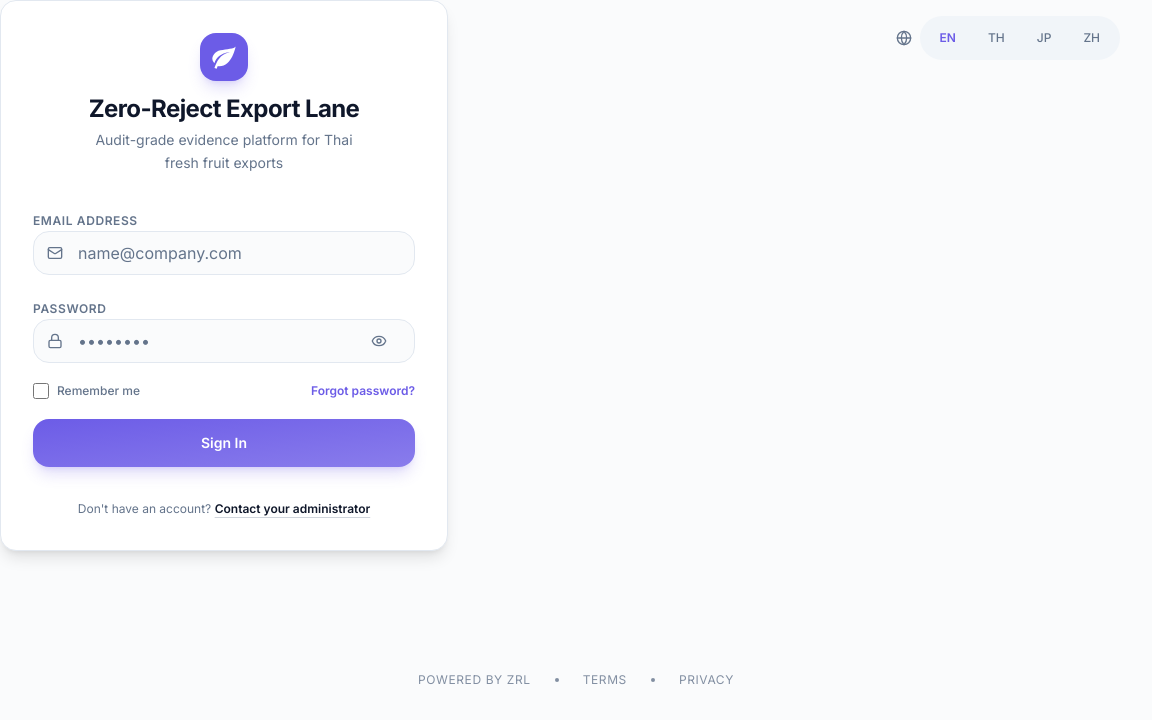
it: LoginPage › shows validation error for invalid email format
Type "notanemail" into the field labelled "Email Address" at (224, 252), box [33,230,415,274]
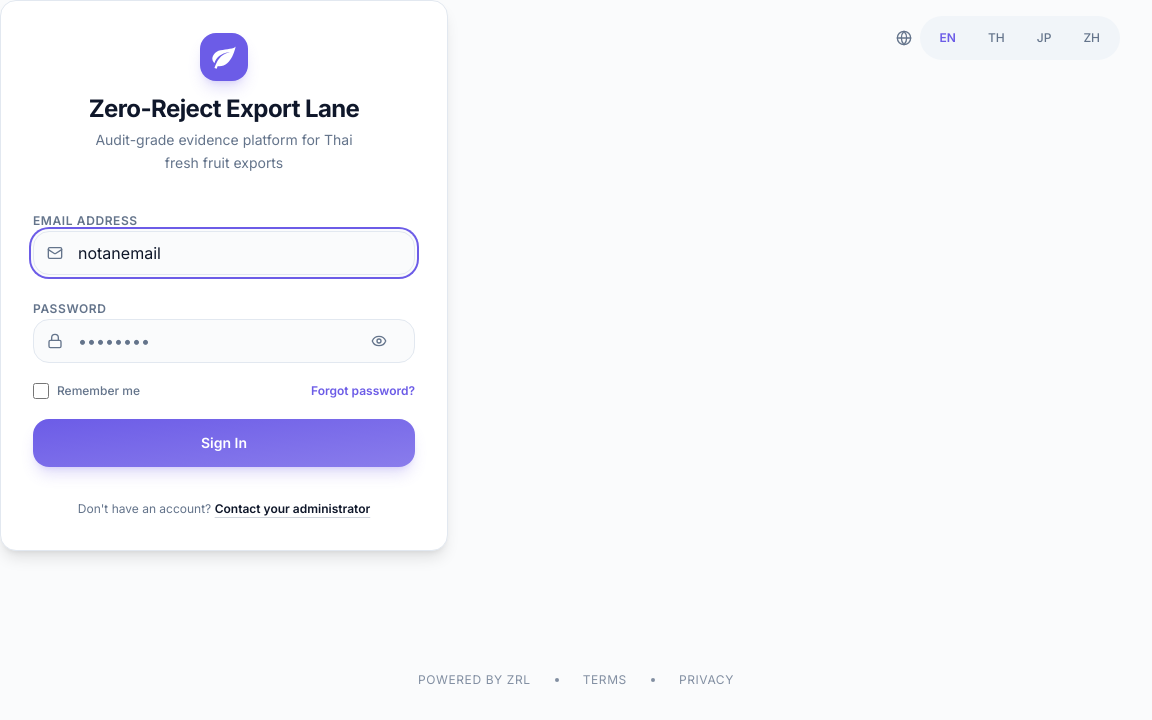
Type "password123" into the password field labelled "Password" at (224, 340), box [33,318,415,362]
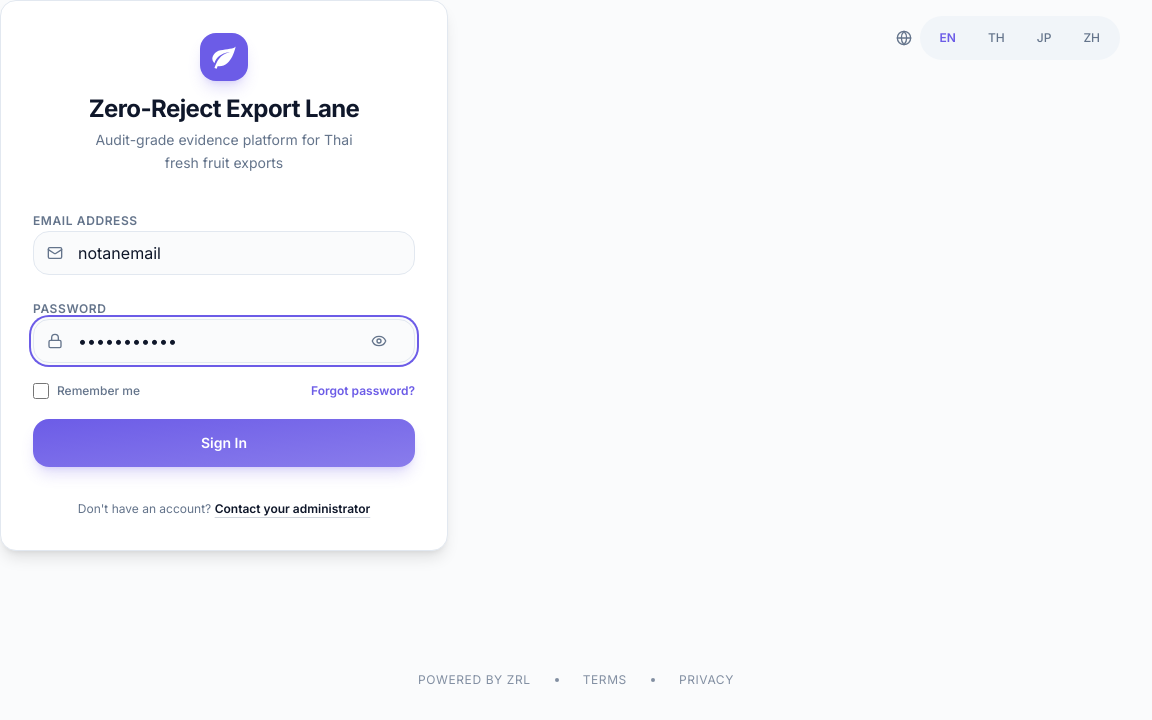
Click the button "Sign In" at (224, 442), box [33,418,415,466]
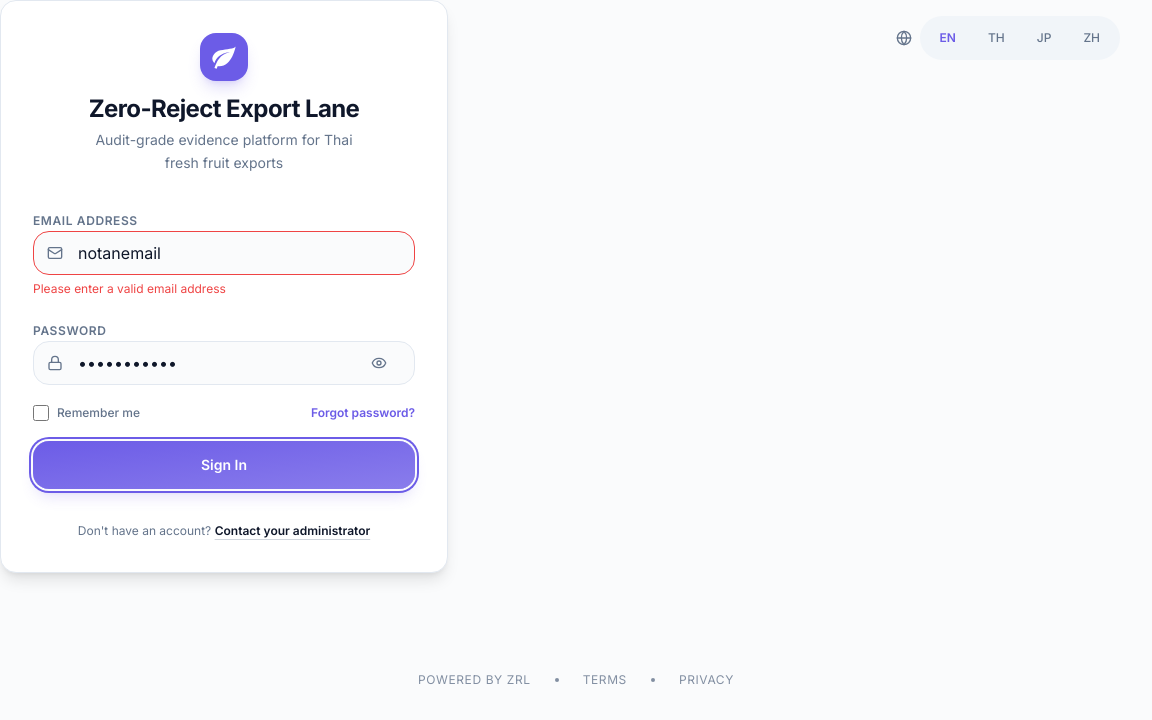
Now the text "Please enter a valid email address" is shown, box [33,280,226,296]
